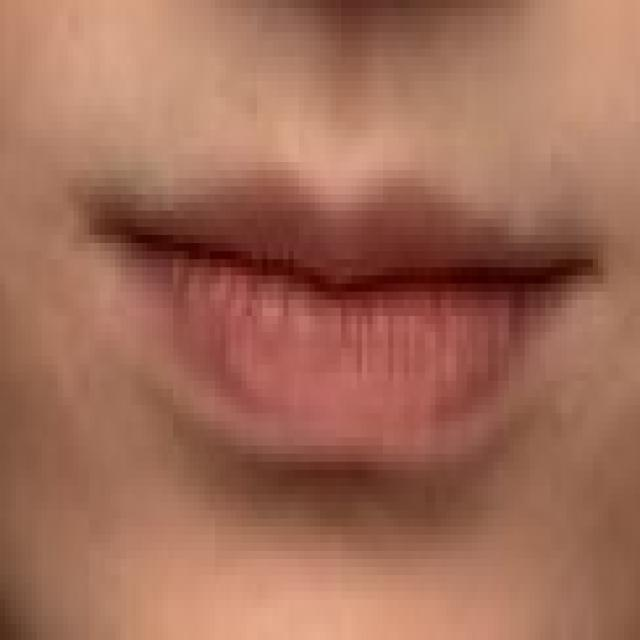closed-mouth: (79, 162, 598, 478)
